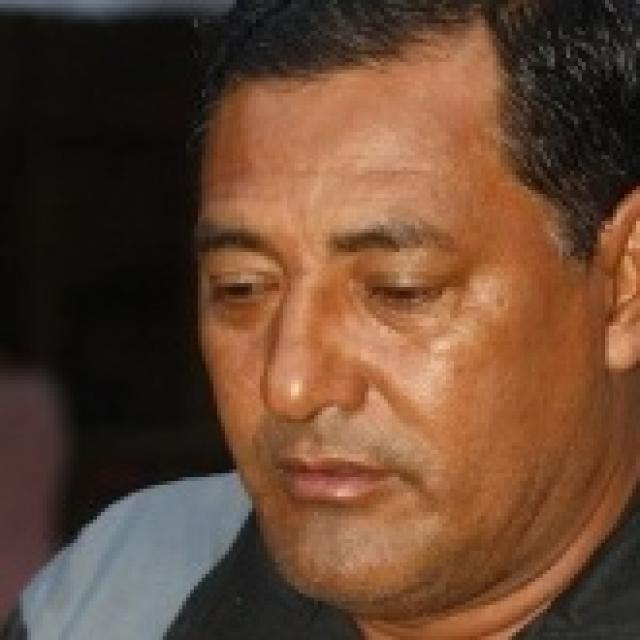Depress: (194, 23, 601, 619)
